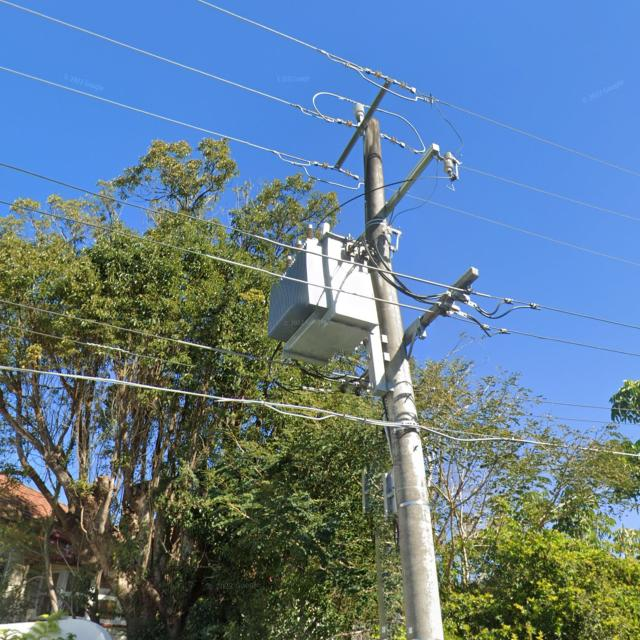HV-transmission: (312, 66, 461, 265)
LV link: (449, 288, 541, 320), (434, 300, 510, 338)
crossarm: (358, 265, 479, 383), (359, 142, 442, 241), (334, 76, 396, 170)
timber-pole: (362, 117, 445, 639)
transformer: (266, 228, 368, 369)
